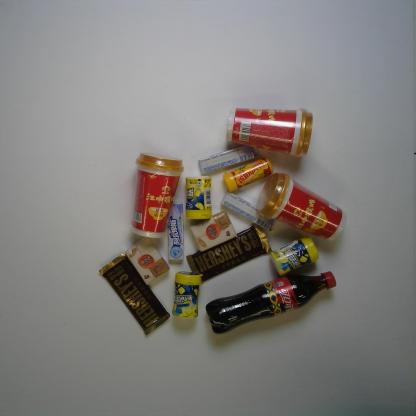Candy: (219, 191, 276, 232), (222, 156, 274, 192), (197, 144, 256, 174), (167, 202, 185, 261)
Chocolate: (98, 252, 170, 336), (186, 223, 273, 282)
Drink: (205, 270, 338, 335)
Gum: (269, 235, 320, 278), (171, 271, 204, 319), (184, 175, 213, 220)
Instant Drink: (256, 172, 348, 242), (130, 152, 185, 240), (225, 106, 314, 159)
Tissue: (124, 235, 171, 287), (189, 209, 238, 252)
